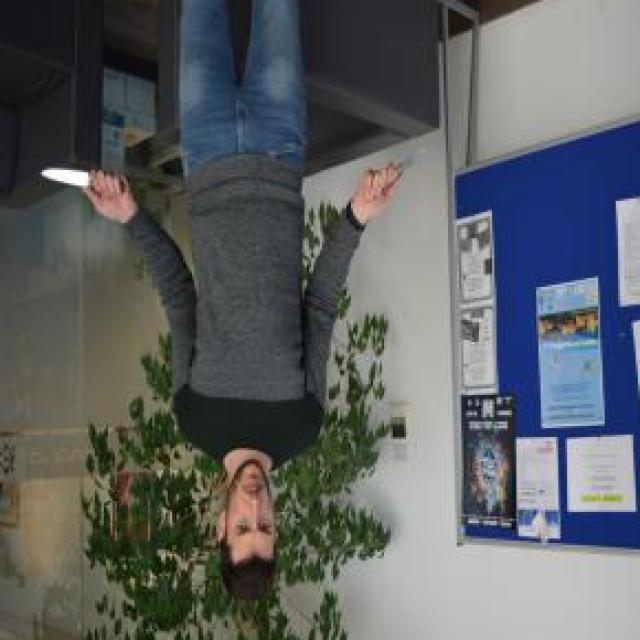knife: (38, 160, 128, 196), (378, 142, 430, 196)
